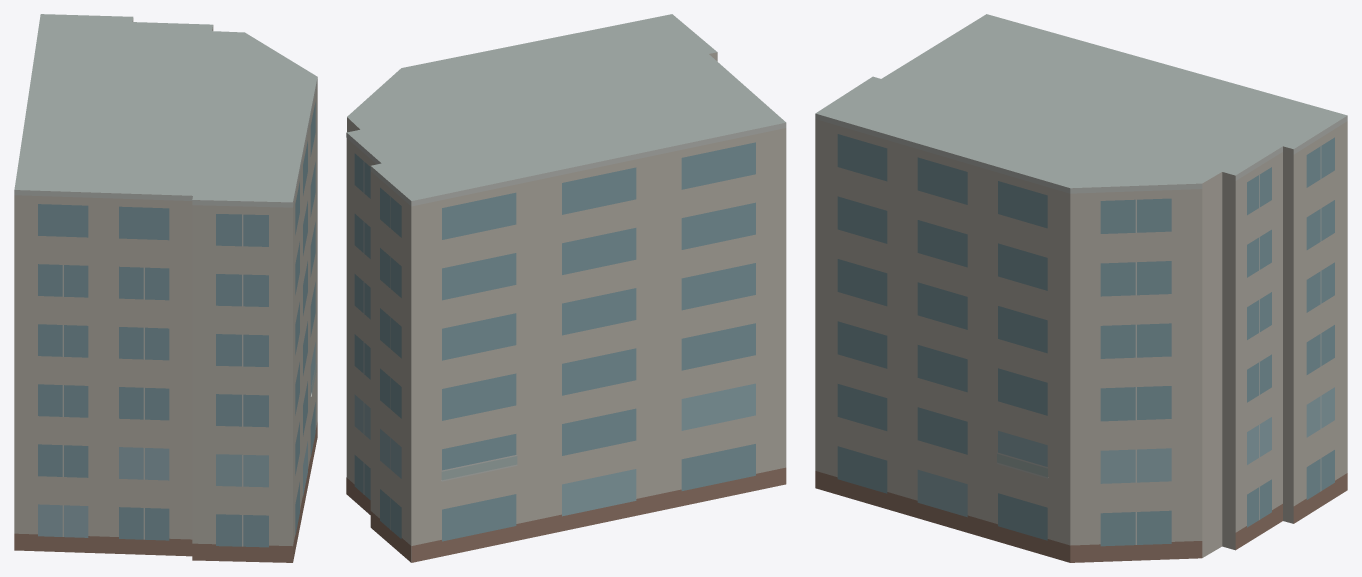
The model's file is survey-upis-32703470.glb.
3 views of the same model, side by side, from view 1: azimuth 30°, elevation 25°; view 2: azimuth 150°, elevation 25°; view 3: azimuth 270°, elevation 25° (orthographic). The views are drawn at different scales.
Visible parts, largest first — view 1: survey-upis-32703470.tmp; view 2: survey-upis-32703470.tmp; view 3: survey-upis-32703470.tmp.
Part boxes in pixels (<box>): survey-upis-32703470.tmp: <box>14,14,317,562</box>; survey-upis-32703470.tmp: <box>346,14,786,562</box>; survey-upis-32703470.tmp: <box>815,14,1347,562</box>.
Bounding box in the file's own units: 16.56 × 16.6 × 21.39.
